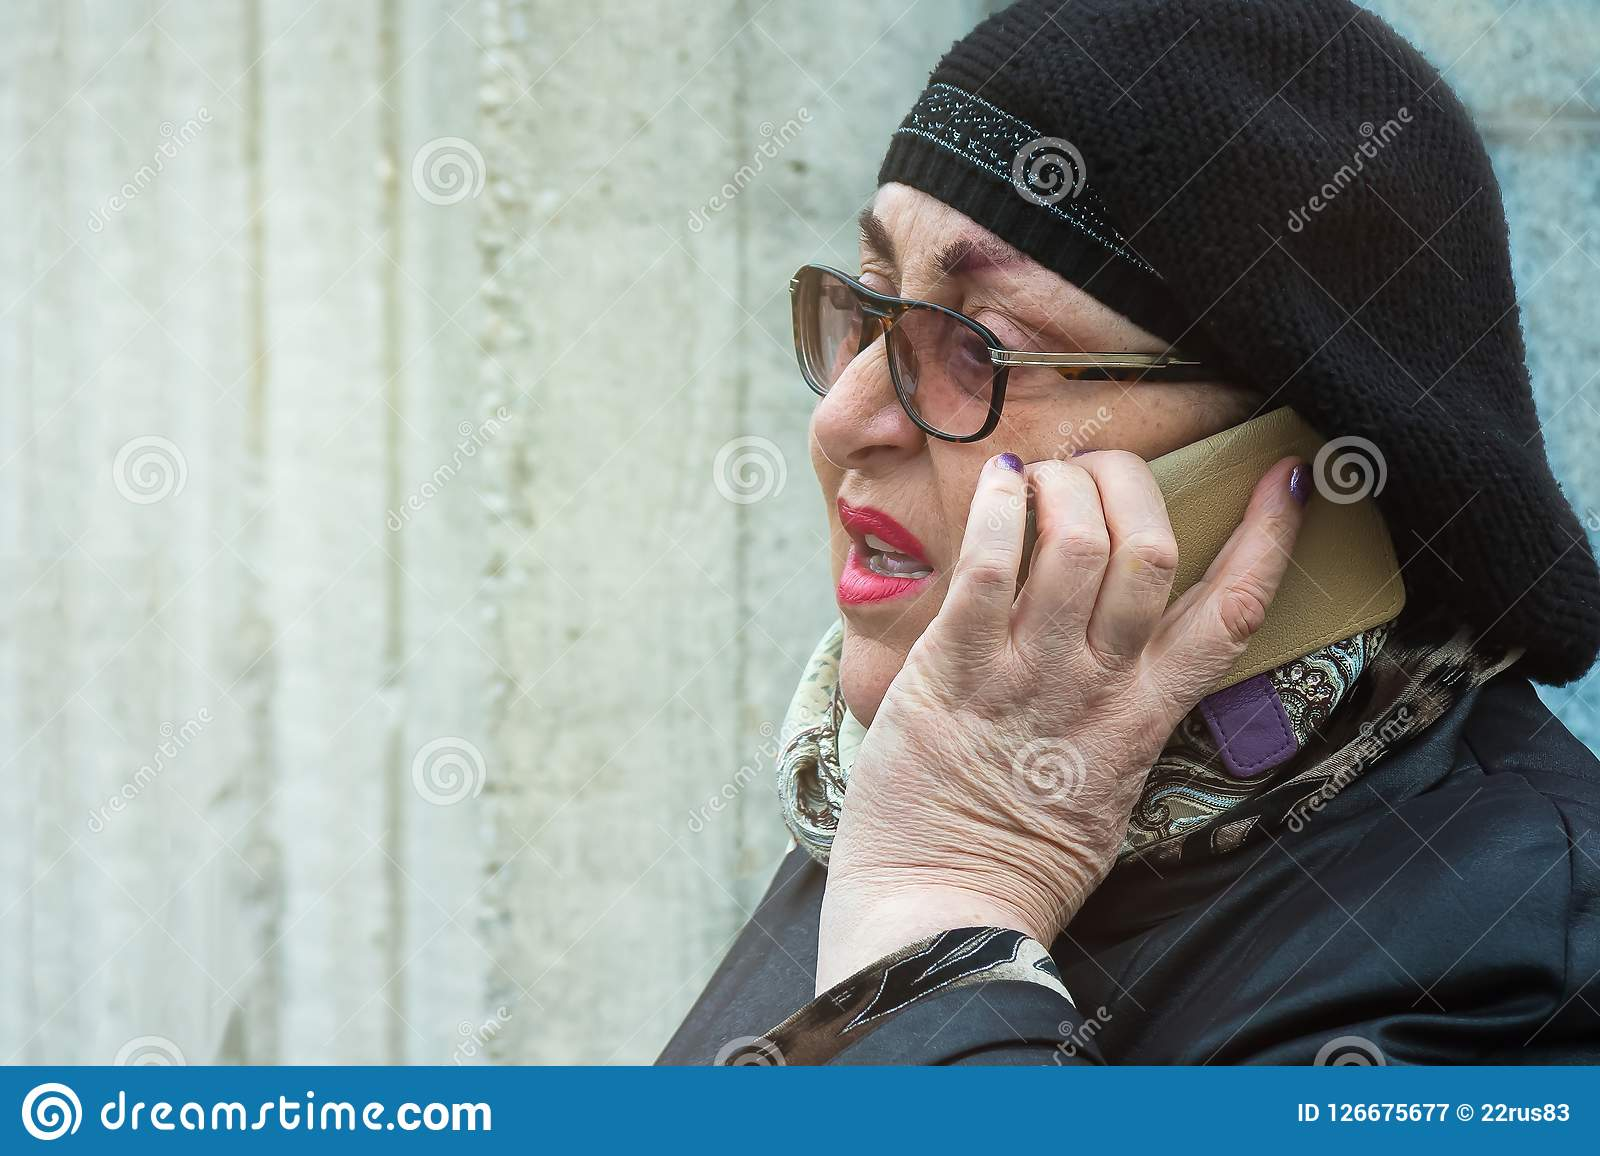phone: (958, 413, 1420, 689)
talk: (802, 209, 1412, 980)
